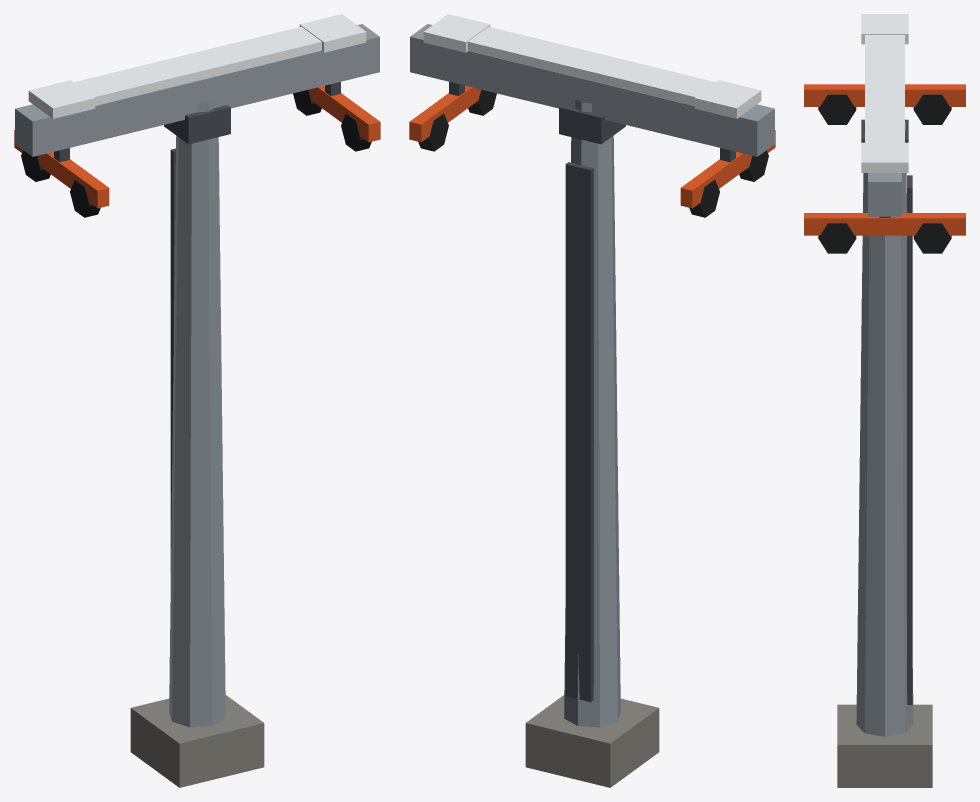
File: lift-tower.glb
3 views of the same model, side by side, from view 1: azimuth 30°, elevation 25°; view 2: azimuth 150°, elevation 25°; view 3: azimuth 270°, elevation 25° (orthographic). The views are drawn at different scales.
Parts seen in each view (by area): view 1: lift-tower; view 2: lift-tower; view 3: lift-tower.
Boxes of the visible parts, box(x1,y1,x2,y2) form: lift-tower: box(14, 14, 380, 787); lift-tower: box(409, 14, 775, 787); lift-tower: box(804, 14, 965, 787).
Size of the model in its own units: 4.1 by 7.88 by 1.7.
